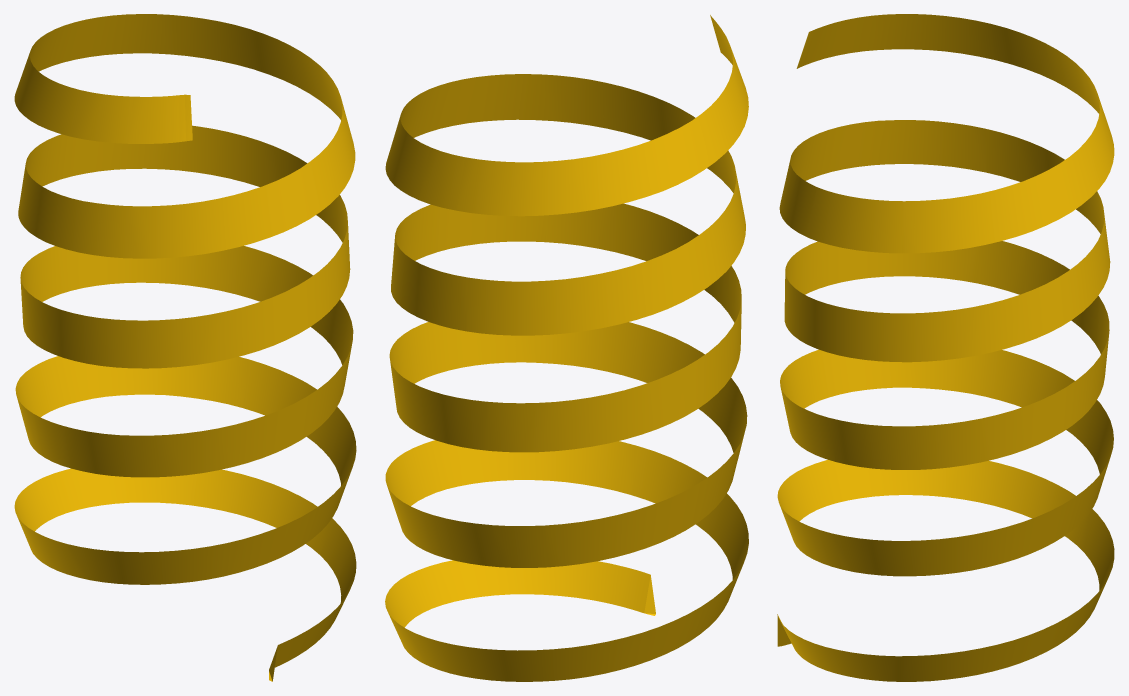
The model's file is espiral1.gltf.
The picture shows the model from 3 angles, left to right: view 1: azimuth 30°, elevation 25°; view 2: azimuth 150°, elevation 25°; view 3: azimuth 270°, elevation 25°; orthographic projection. The views are drawn at different scales.
Visible parts, largest first — view 1: Mesh_0; view 2: Mesh_0; view 3: Mesh_0.
Boxes of the visible parts, x1=… form: Mesh_0: x1=14, y1=14, x2=356, y2=681; Mesh_0: x1=385, y1=15, x2=748, y2=681; Mesh_0: x1=777, y1=14, x2=1114, y2=681.
Bounding box in the file's own units: 46.2 × 88.19 × 46.2.
